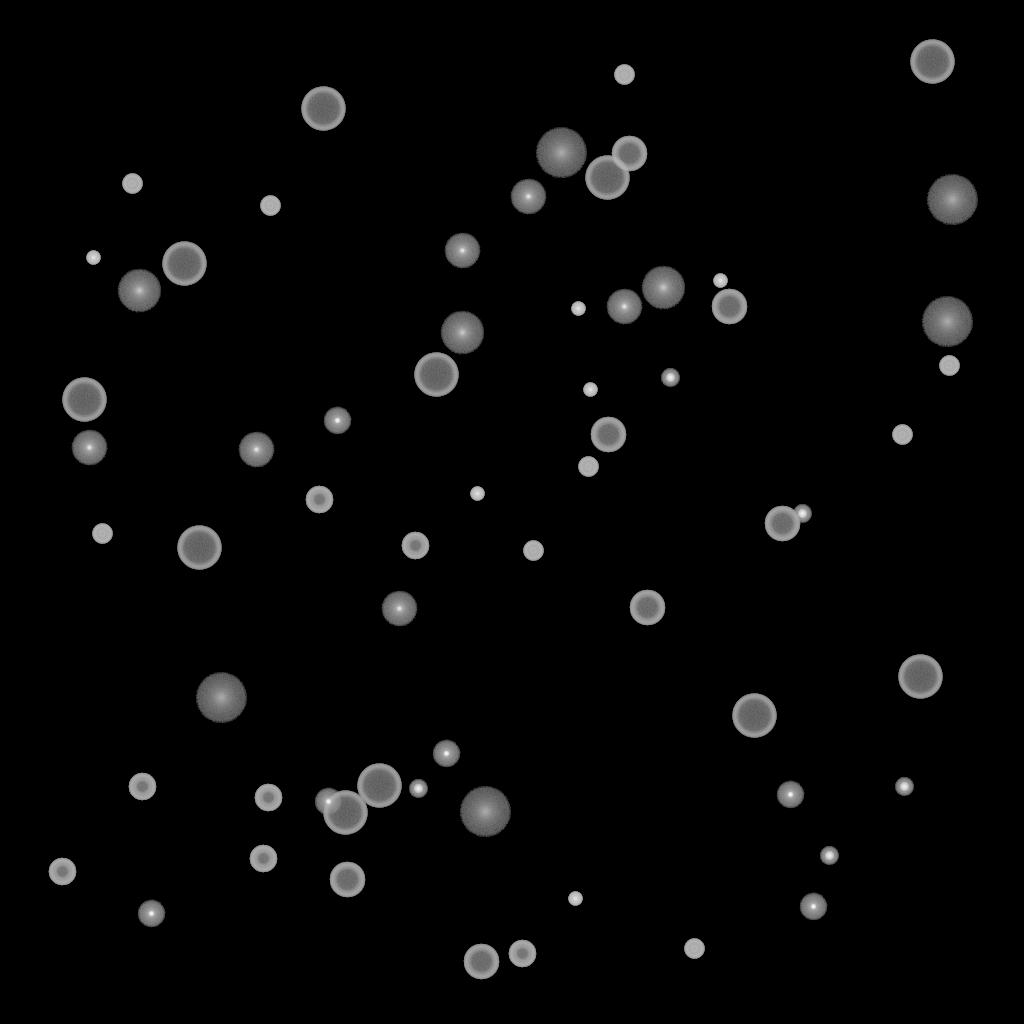depth:-10: (799, 893, 827, 921), (314, 788, 342, 816), (137, 900, 165, 928), (323, 407, 351, 435), (432, 740, 460, 768), (776, 781, 804, 809)
depth:-20: (820, 847, 838, 865), (793, 505, 811, 523), (409, 780, 427, 798), (895, 778, 913, 796), (661, 369, 679, 387)
depth:-30: (571, 302, 585, 316), (470, 487, 484, 501), (583, 383, 597, 397), (86, 251, 100, 265), (713, 274, 727, 288), (568, 892, 582, 906)
depth:-40: (939, 356, 959, 376), (122, 174, 142, 194), (92, 524, 112, 544), (523, 541, 543, 561), (684, 939, 704, 959), (892, 425, 912, 445), (260, 196, 280, 216), (614, 65, 634, 85), (578, 457, 598, 477)
depth:-50: (128, 773, 156, 801), (508, 940, 536, 968), (48, 858, 76, 886), (401, 532, 429, 560), (254, 784, 282, 812), (305, 486, 333, 514), (249, 845, 277, 873)
depth:-60: (463, 944, 499, 980), (629, 590, 665, 626), (764, 506, 800, 542), (590, 417, 626, 453), (329, 862, 365, 898), (611, 136, 647, 172), (711, 289, 747, 325)
depth:-70: (414, 353, 458, 397), (162, 242, 206, 286), (585, 156, 629, 200), (357, 764, 401, 808), (910, 40, 954, 84), (62, 378, 106, 422), (898, 655, 942, 699), (732, 694, 776, 738), (301, 87, 345, 131), (323, 791, 367, 835), (177, 526, 221, 570)
depth:0: (381, 591, 417, 627), (71, 430, 107, 466), (444, 233, 480, 269), (606, 289, 642, 325), (238, 432, 274, 468), (510, 179, 546, 215)
depth:10: (641, 266, 685, 310), (440, 311, 484, 355), (117, 269, 161, 313)
depth:20: (535, 128, 587, 178), (459, 787, 511, 837), (921, 297, 973, 347), (195, 673, 247, 723), (926, 175, 978, 225)
